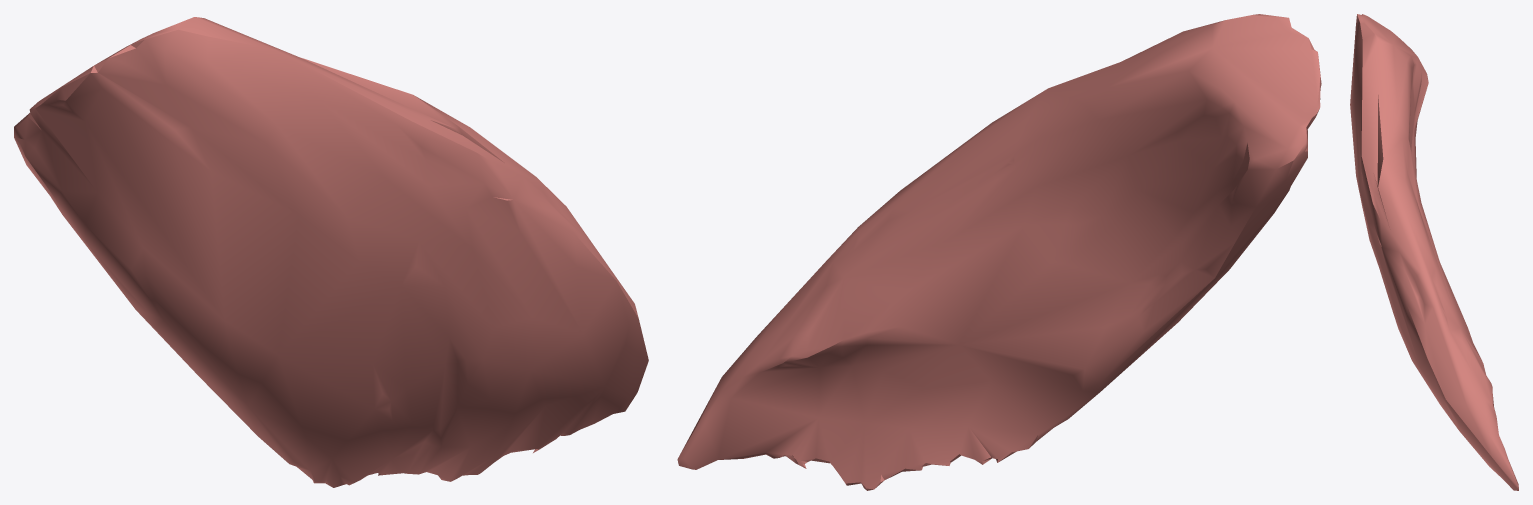
The model's file is fma46314_fj1566.glb.
3 views of the same model, side by side, from view 1: azimuth 30°, elevation 25°; view 2: azimuth 150°, elevation 25°; view 3: azimuth 270°, elevation 25° (orthographic). The views are drawn at different scales.
Parts seen in each view (by area): view 1: FMA46314_FJ1566; view 2: FMA46314_FJ1566; view 3: FMA46314_FJ1566.
Part boxes in pixels (<box>): FMA46314_FJ1566: <box>14,17,648,487</box>; FMA46314_FJ1566: <box>677,14,1321,490</box>; FMA46314_FJ1566: <box>1350,14,1518,490</box>.
Bounding box in the file's own units: 0.0257 × 0.0216 × 0.0103.
